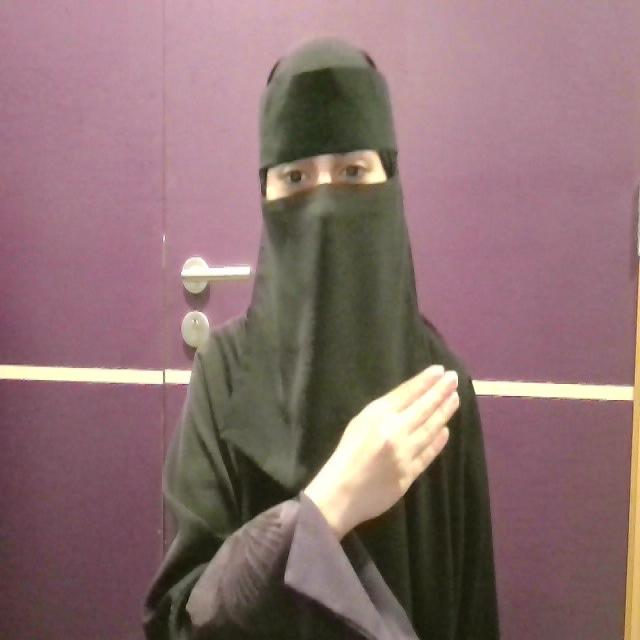result: (304, 361, 460, 539)
